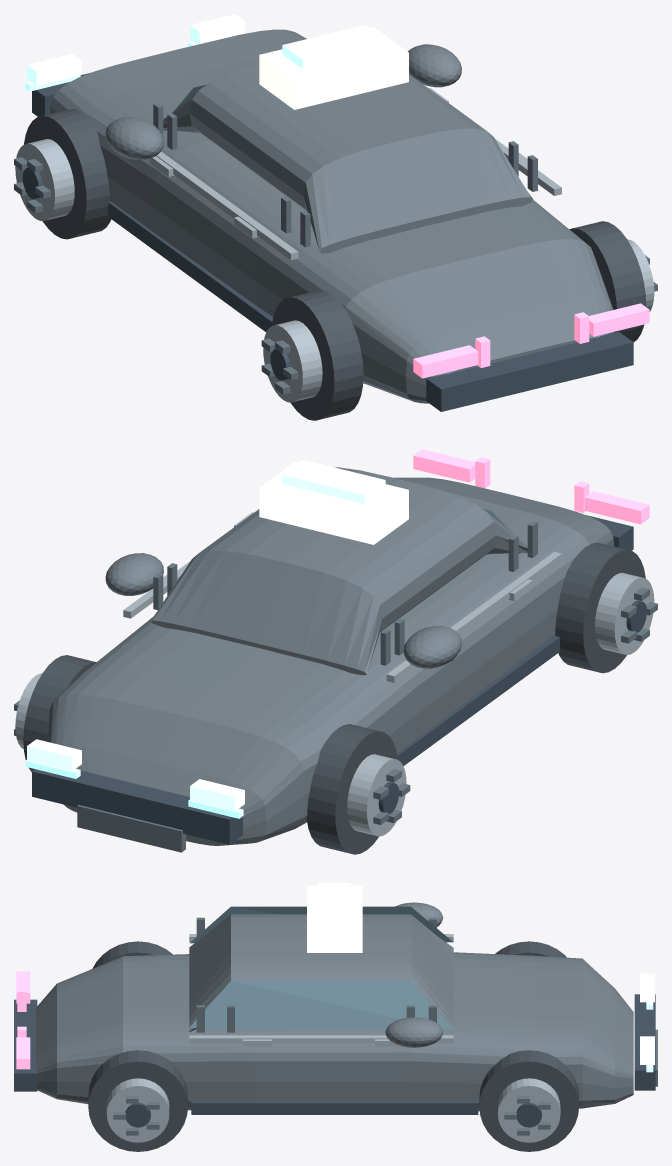
The model's file is taxi.glb.
3 views of the same model, one above another, from view 1: azimuth 30°, elevation 25°; view 2: azimuth 150°, elevation 25°; view 3: azimuth 270°, elevation 25° (orthographic). The views are drawn at different scales.
Parts seen in each view (by area): view 1: curved-monocoque-shell, cabin-and-roof, rubber, dark, alum, warm, headlight, charcoal, frame, red; view 2: curved-monocoque-shell, cabin-and-roof, rubber, dark, alum, frame, warm, headlight, charcoal, red, neon; view 3: curved-monocoque-shell, cabin-and-roof, rubber, glass, dark, alum, warm, headlight, frame, charcoal, red.
Boxes of the visible parts, box(x1,y1,x2,y2) form: curved-monocoque-shell: box(47, 29, 614, 403); cabin-and-roof: box(163, 64, 533, 253); rubber: box(24, 108, 646, 420); dark: box(22, 73, 633, 411); alum: box(15, 88, 654, 402); warm: box(259, 27, 408, 109); headlight: box(27, 14, 385, 85); charcoal: box(105, 44, 461, 159); frame: box(14, 103, 657, 394); red: box(413, 303, 649, 378); curved-monocoque-shell: box(48, 477, 613, 845); cabin-and-roof: box(150, 467, 527, 675); rubber: box(23, 542, 645, 854); dark: box(32, 515, 646, 844); alum: box(15, 512, 654, 836); frame: box(14, 521, 657, 852); warm: box(259, 462, 408, 544); headlight: box(27, 460, 385, 810); charcoal: box(105, 553, 461, 668); red: box(413, 449, 649, 524); neon: box(25, 760, 243, 818); curved-monocoque-shell: box(36, 952, 633, 1111); cabin-and-roof: box(189, 914, 453, 1031); rubber: box(88, 941, 578, 1151); glass: box(189, 906, 453, 1030); dark: box(14, 994, 655, 1127); alum: box(106, 934, 560, 1142); warm: box(307, 885, 362, 952); headlight: box(318, 883, 654, 1064); frame: box(113, 917, 657, 1135); charcoal: box(385, 902, 443, 1047); red: box(16, 971, 30, 1069).
Bounding box in the file's own units: 2.88 × 1.84 × 5.55.
